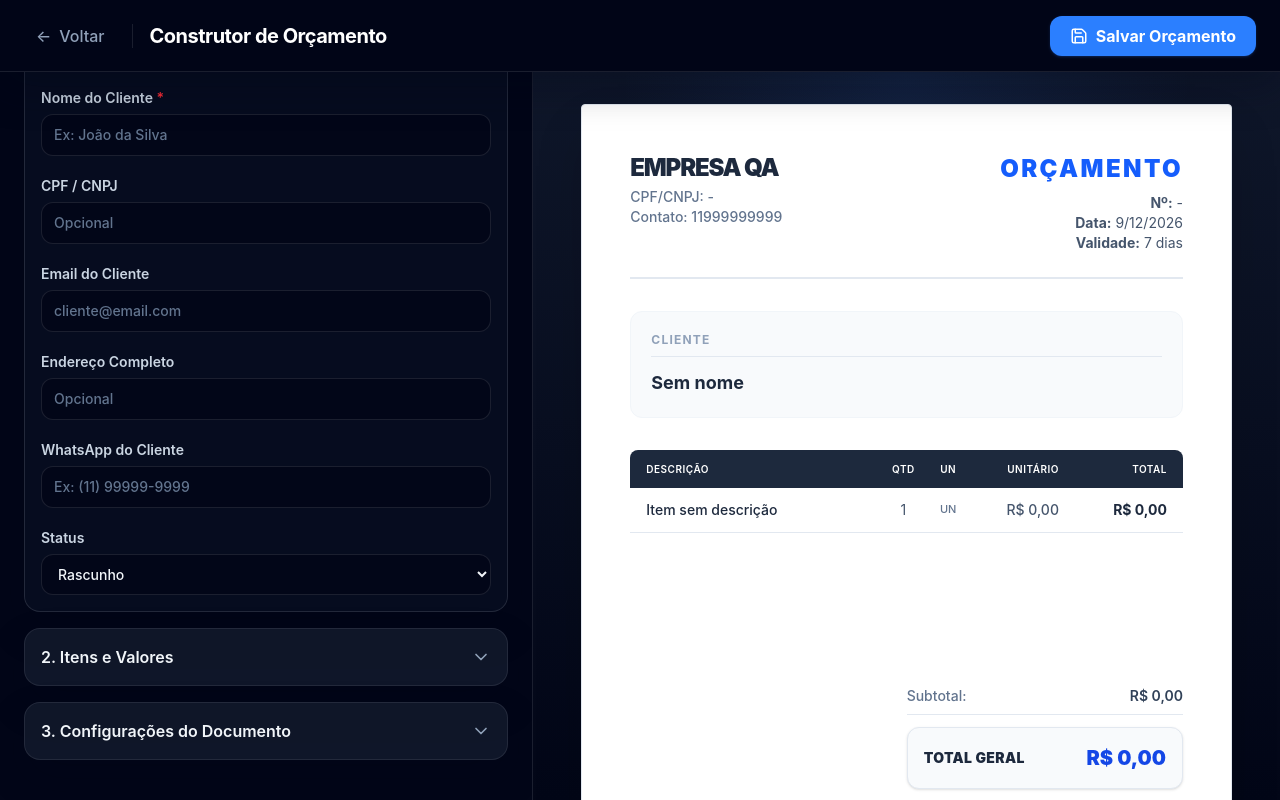
Test: BudgetPage edit/duplicate flows › adds a new item row when clicking 'Adicionar Novo Item'
(page scrolled)
What coordinates should you click on to do the following:
click the button "2. Itens e Valores"
I would click on:
 (107, 657)
Its box is [25, 629, 507, 685].
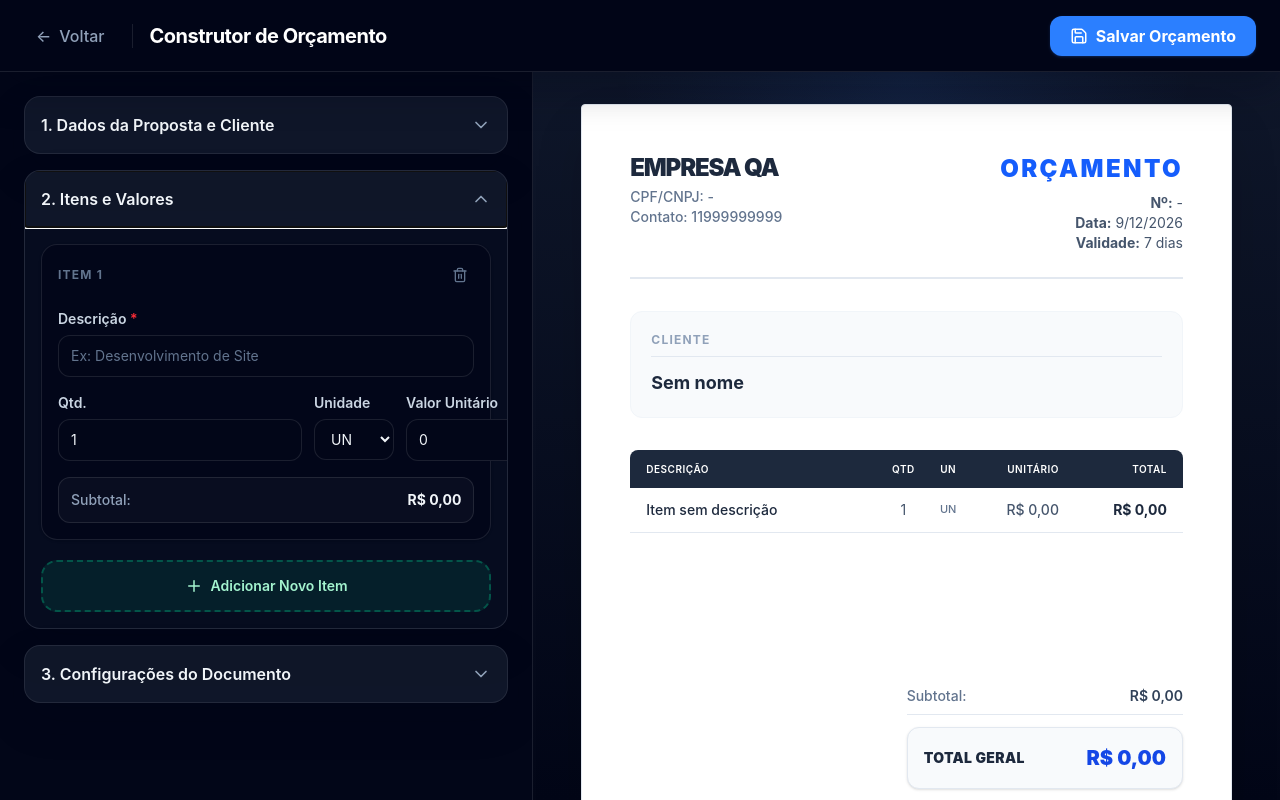
Expected: the text "Item 1" is shown once, [58, 267, 103, 283]
What coordinates should you click on to do the following:
click the button "Adicionar Novo Item"
I would click on:
 (266, 586)
Its box is [41, 560, 491, 612].
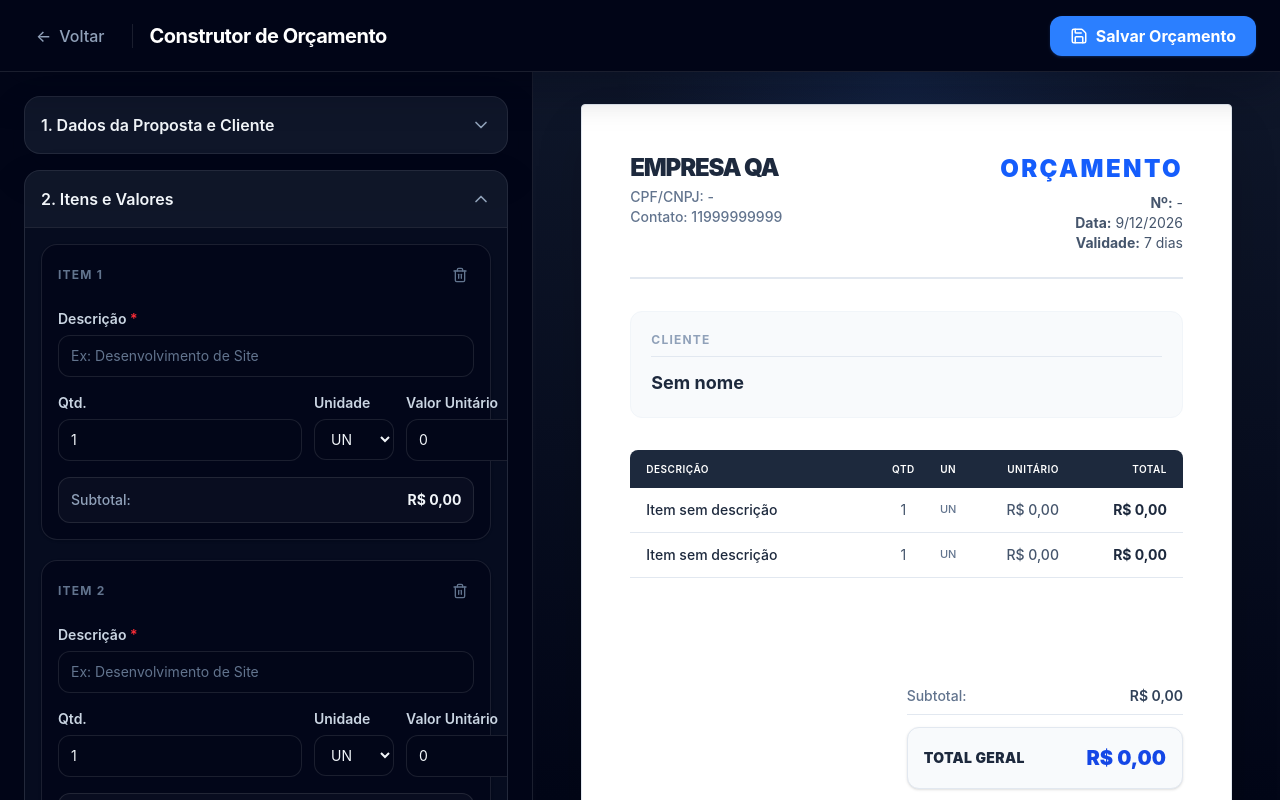
Expected: the text "Item 1" is shown 2 times, [58, 267, 103, 283]; [58, 583, 106, 599]
